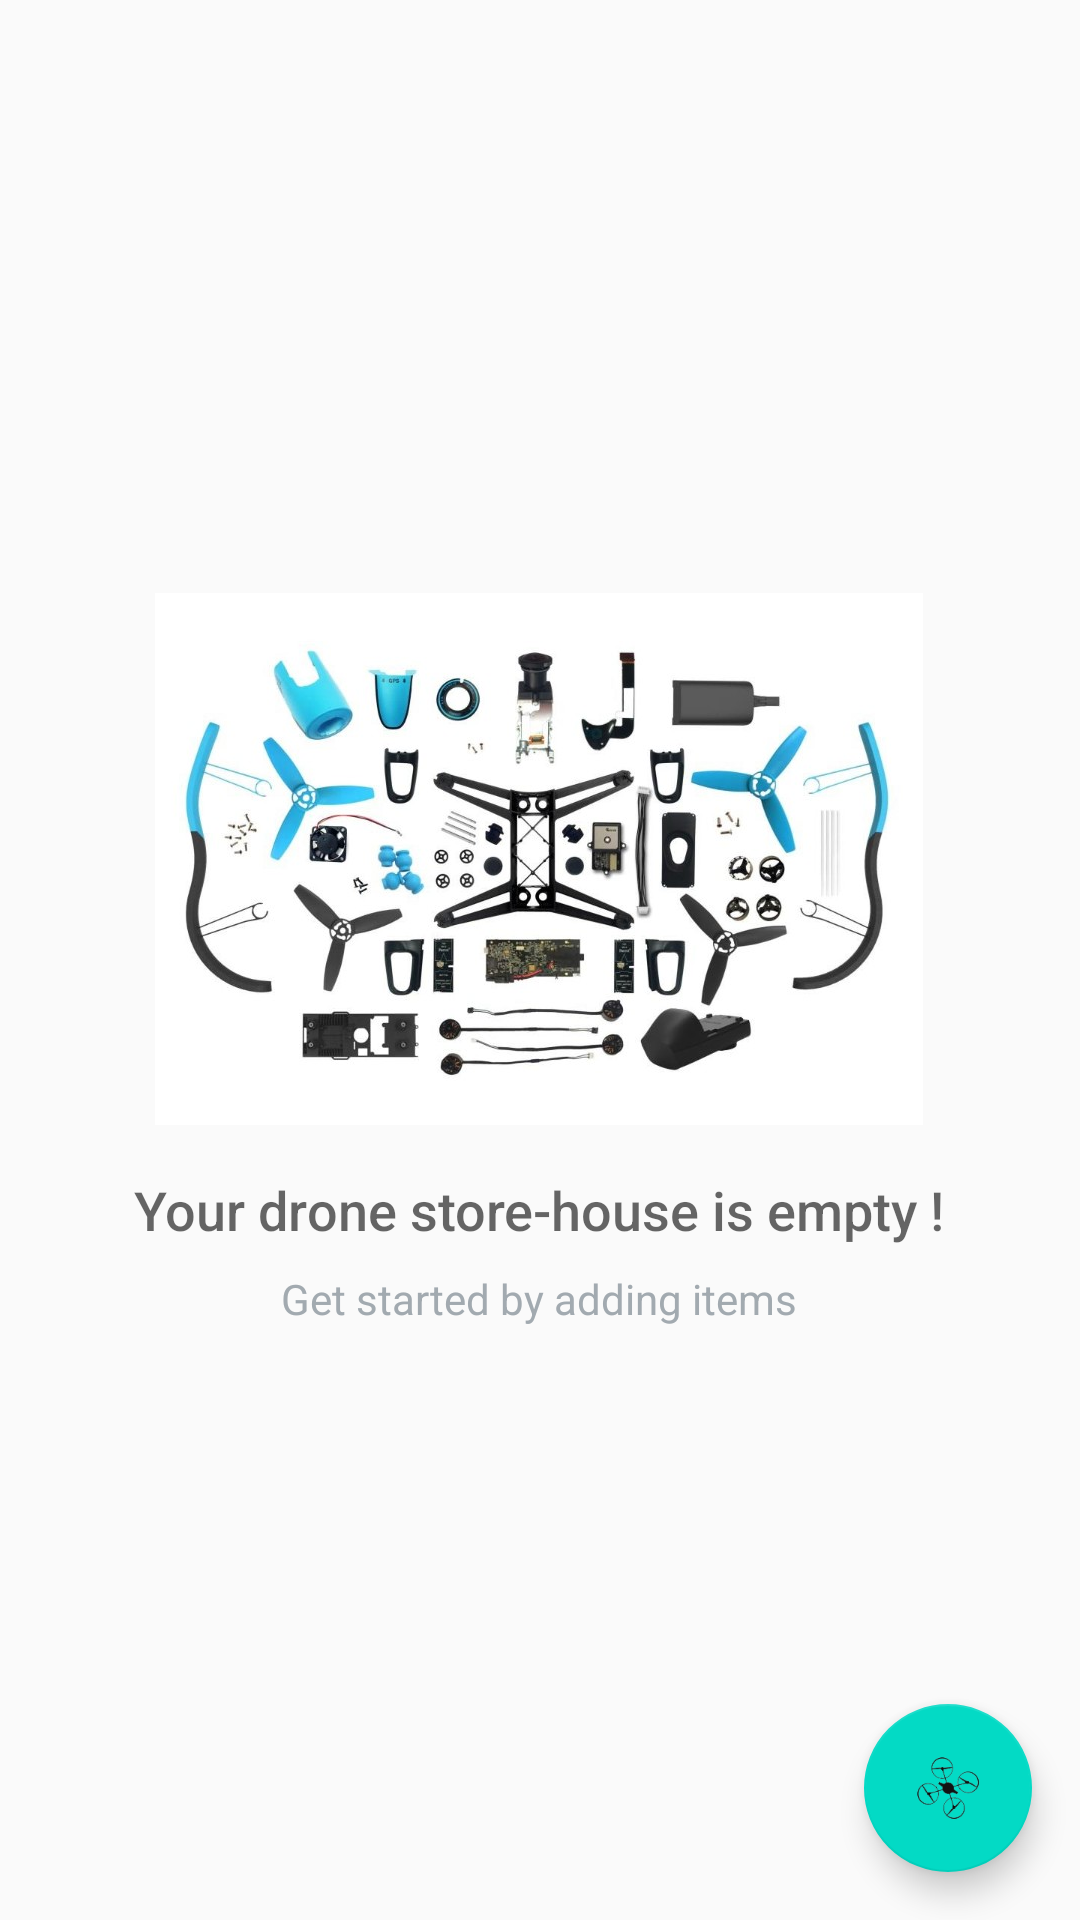

Where to tap for icons on this 1080x1920 app screen, as [x,y]:
add drone: [948,1788]
